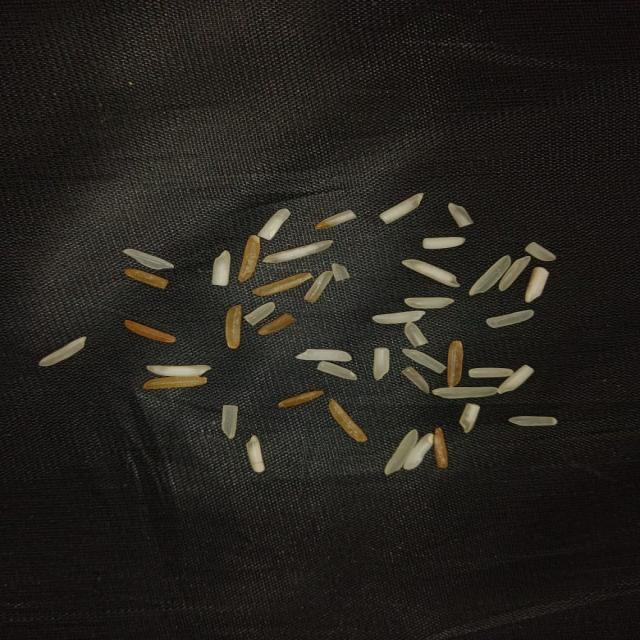Broken: (328, 400, 368, 443), (252, 272, 311, 296), (379, 193, 424, 224), (401, 348, 447, 374), (122, 248, 174, 270), (125, 320, 176, 342), (257, 209, 291, 241), (238, 235, 261, 282), (498, 365, 534, 394), (486, 309, 534, 329), (305, 271, 334, 303), (125, 268, 168, 289), (143, 375, 207, 389), (526, 266, 550, 303), (315, 209, 357, 230), (258, 313, 296, 335), (278, 390, 324, 408), (401, 366, 430, 394), (318, 360, 358, 380), (244, 302, 275, 326), (447, 341, 463, 387), (226, 305, 241, 349), (448, 203, 474, 228), (212, 250, 230, 286), (460, 403, 480, 434), (422, 236, 466, 250), (433, 428, 448, 468), (525, 242, 556, 261), (405, 322, 428, 347), (222, 405, 238, 439), (374, 348, 391, 380), (508, 416, 557, 426), (469, 368, 513, 378), (331, 263, 350, 282)
Full: (468, 255, 512, 296), (402, 259, 461, 288), (263, 240, 333, 264), (384, 429, 418, 475), (39, 336, 86, 366), (499, 256, 531, 292), (403, 433, 434, 470), (432, 386, 499, 399), (295, 348, 352, 362), (146, 364, 211, 376), (372, 310, 426, 324), (245, 436, 265, 472), (404, 297, 454, 309)
